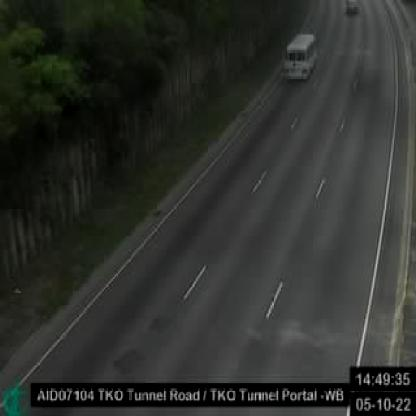Bus: (281, 33, 316, 81)
